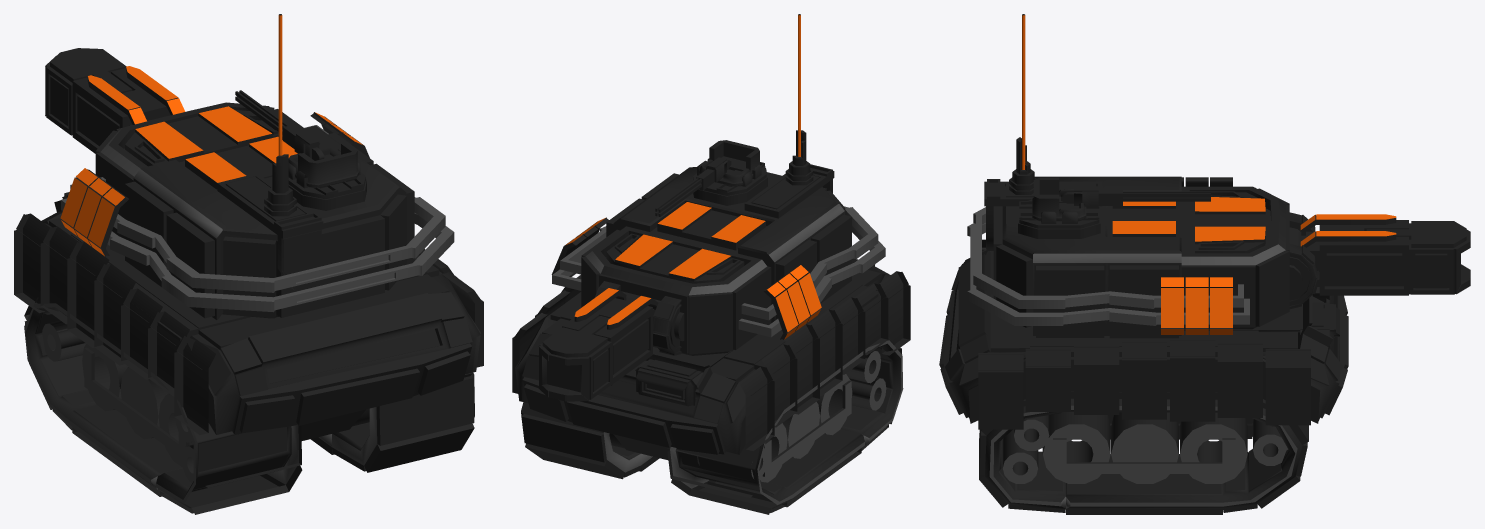
Rendered from TANKv3.fbx.
3 views of the same model, side by side, from view 1: azimuth 30°, elevation 25°; view 2: azimuth 150°, elevation 25°; view 3: azimuth 270°, elevation 25° (orthographic). The views are drawn at different scales.
Parts seen in each view (by area): view 1: TOWER, HULL, RIGHT_TRACK, TURRET, LEFT_TRACK; view 2: TOWER, HULL, RIGHT_TRACK, TURRET, LEFT_TRACK; view 3: TOWER, HULL, LEFT_TRACK, TURRET.
Boxes of the visible parts, <box> form: TOWER: <box>60,14,454,319</box>; HULL: <box>14,192,483,440</box>; RIGHT_TRACK: <box>24,297,302,514</box>; TURRET: <box>45,48,185,153</box>; LEFT_TRACK: <box>310,372,474,472</box>; TOWER: <box>551,14,885,355</box>; HULL: <box>512,258,910,459</box>; RIGHT_TRACK: <box>667,337,903,514</box>; TURRET: <box>538,281,684,401</box>; LEFT_TRACK: <box>521,402,659,479</box>; TOWER: <box>967,14,1289,338</box>; HULL: <box>939,239,1348,438</box>; LEFT_TRACK: <box>979,391,1308,514</box>; TURRET: <box>1289,212,1470,309</box>.
Bounding box in the file's own units: 257 × 411 × 465.
